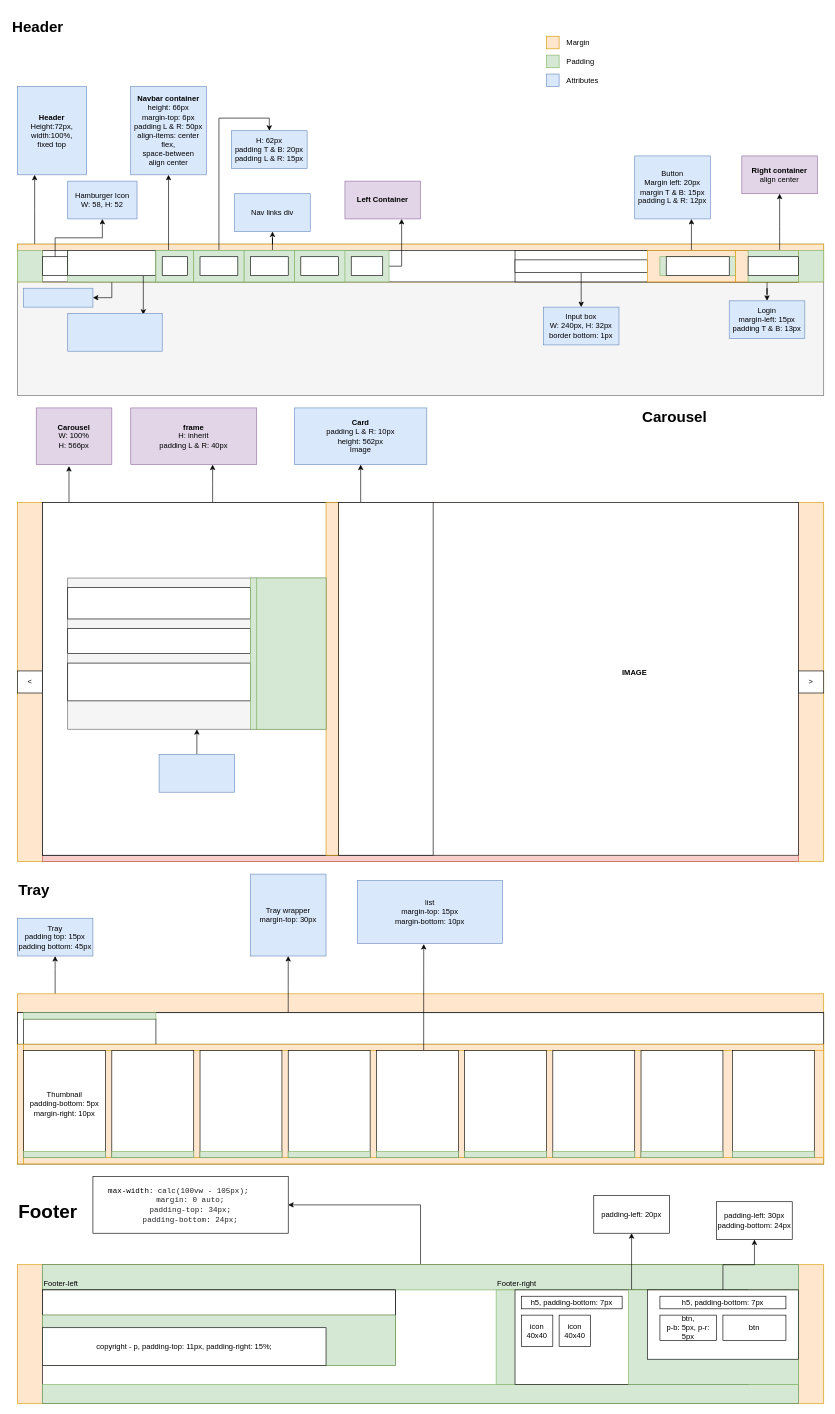
The diagram is 835 pixels wide and 1414 high, and some of its shapes have lost their labels. Here are the shapes that lost their labels. From the top down, the centre of each, then its label:
the point at 58,297: Logo container W: 162px, H: 62px
the point at 114,332: Logo SVG W: inherit; H: 48px Padding-bottom 14px
the point at 158,603: H1, H: 54px
the point at 158,641: Tags, H: 41px, Padding-top: 10px
the point at 291,653: Padding right 10%
the point at 158,681: Description, Padding top: 10px
the point at 385,678: Gradient
the point at 196,773: Padding right: 10px
the point at 89,1031: h1, H: 40px
the point at 218,1302: ul, h:20px
